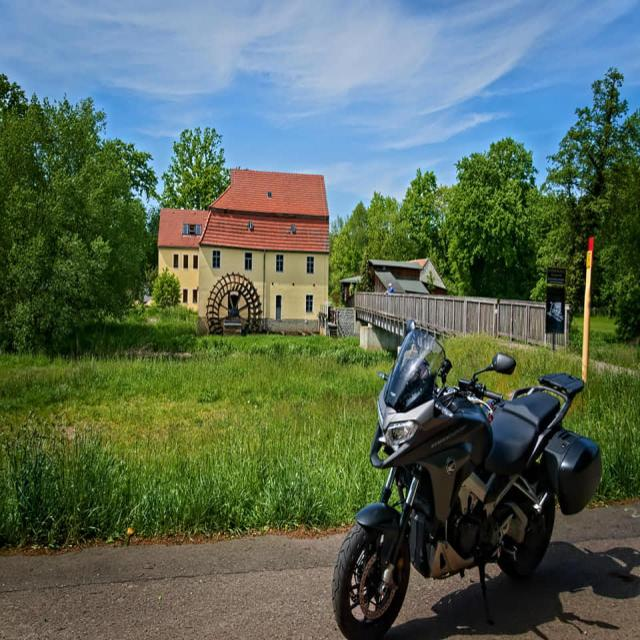Motorcycle: (333, 322, 602, 640)
